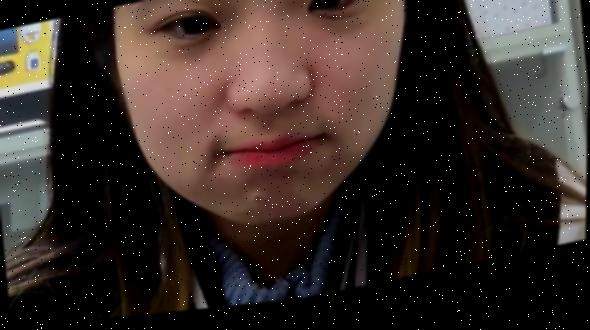eye: (183, 20, 204, 40), (318, 0, 340, 17)
iris: (164, 19, 213, 45), (313, 0, 360, 20)
